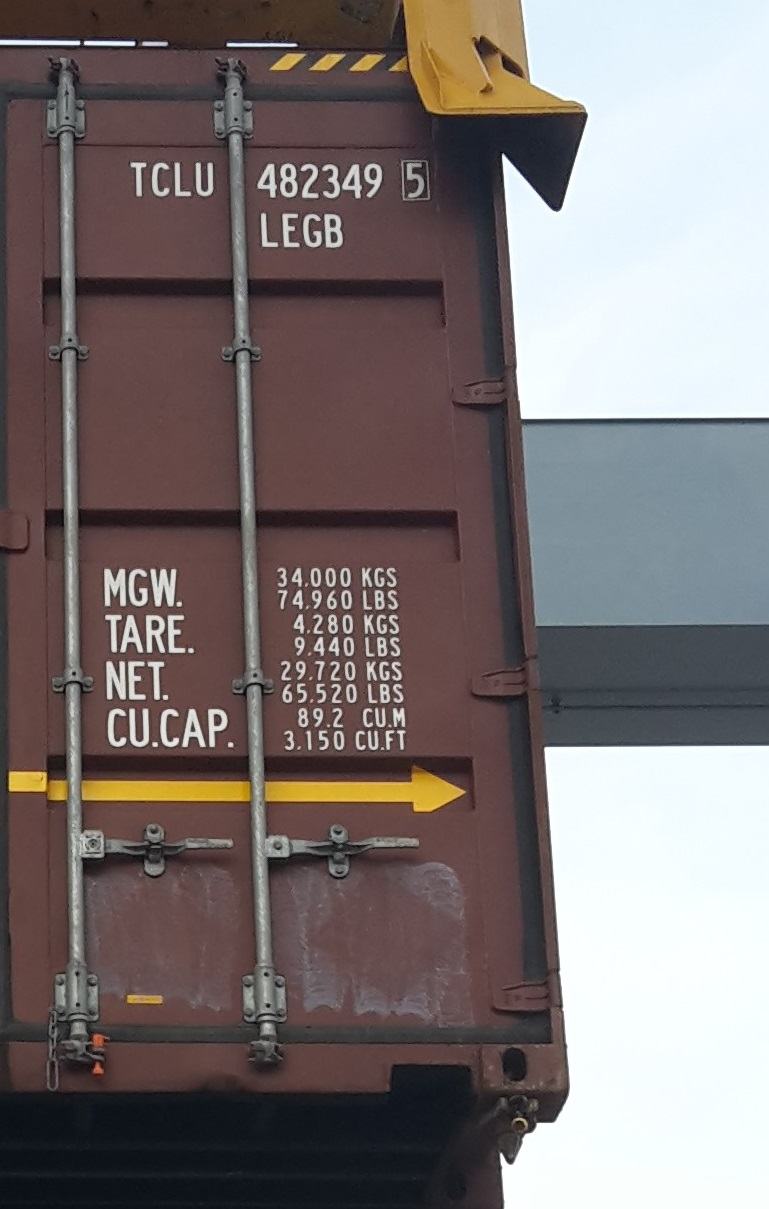container_door: (16, 49, 540, 1108)
